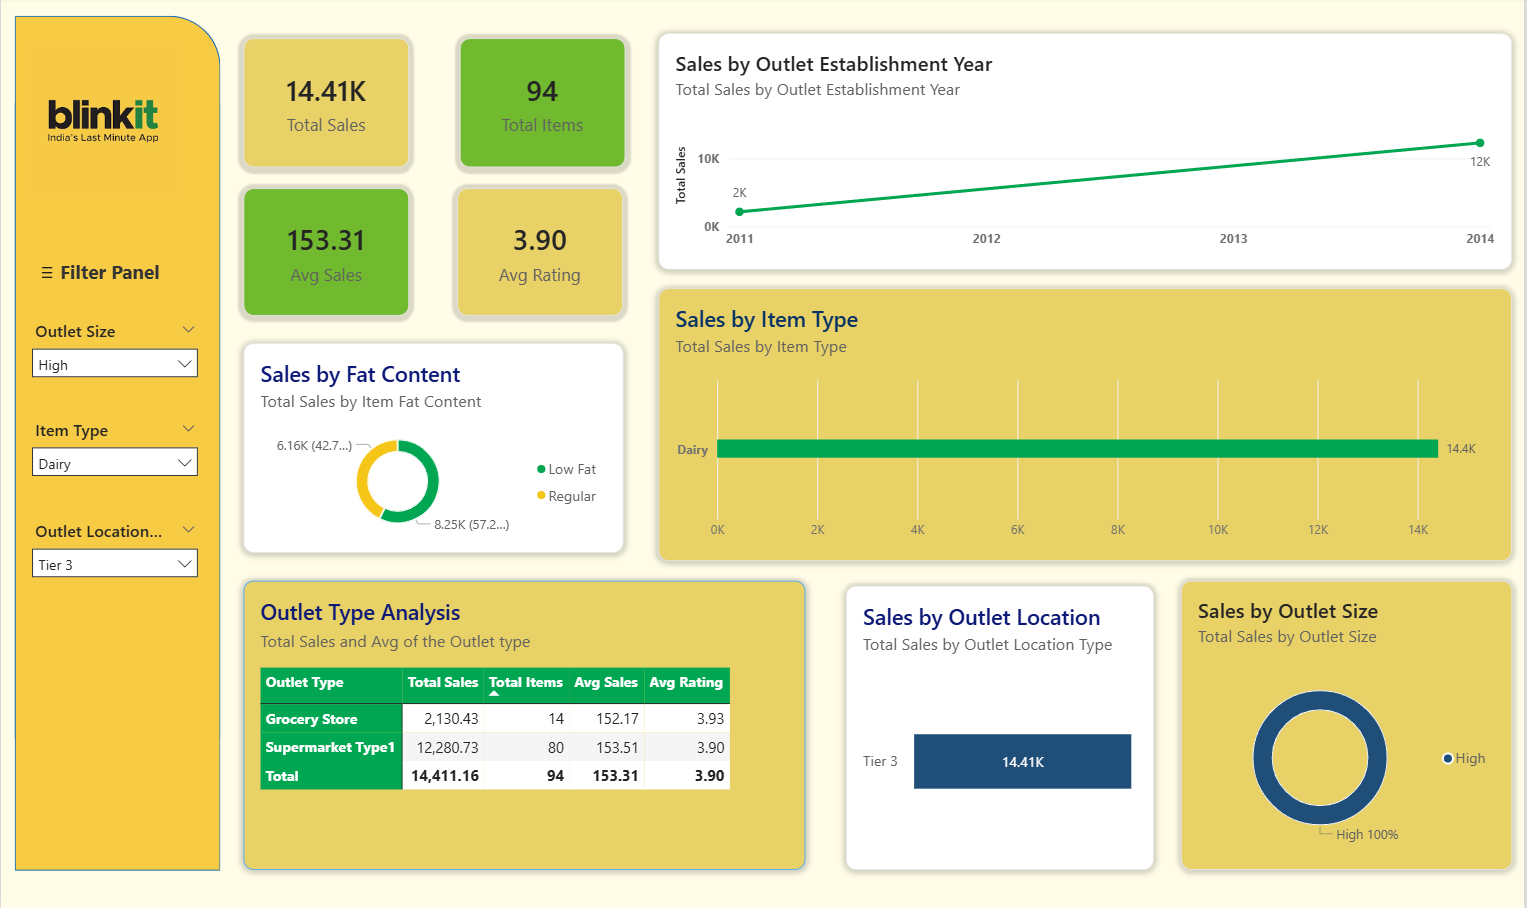

The page's visual inventory and layout, read from the dashboard file:
{"tool":"powerbi","page":{"name":"Page 1","canvas":[1500,900],"ordinal":0},"visuals":[{"type":"card","fields":{"Values":["Key Measures.Total Sales"]},"box":[239,41.2,163.2,126.9],"z":0},{"type":"card","fields":{"Values":["Key Measures.Avg Sales"]},"box":[239,187.9,163.2,125.3],"z":1000},{"type":"card","fields":{"Values":["Key Measures.Avg Rating"]},"box":[450,187.9,163.2,125.3],"z":2000},{"type":"card","fields":{"Values":["Key Measures.Total Items"]},"box":[451.6,41.2,163.2,126.9],"z":3000},{"type":"donutChart","title":" Sales by Fat Content","fields":{"Category":["BlinkIT-Grocery-Data.Item Fat Content"],"Y":["Key Measures.Total Sales"]},"box":[239,341.2,374.2,206],"z":4000},{"type":"clusteredBarChart","title":"Sales by Item Type","fields":{"Category":["BlinkIT-Grocery-Data.Item Type"],"Y":["Key Measures.Total Sales"]},"box":[647.8,286.8,840.7,268.7],"z":5000},{"type":"donutChart","title":"Sales by Outlet Size","fields":{"Category":["BlinkIT-Grocery-Data.Outlet Size"],"Y":["Key Measures.Total Sales"]},"box":[1162.1,575.3,326.4,285.2],"z":6000},{"type":"lineChart","title":"Sales by Outlet Establishment Year","fields":{"Category":["BlinkIT-Grocery-Data.Outlet Establishment Year"],"Y":["Key Measures.Total Sales"]},"box":[647.8,36.3,840.7,232.4],"z":7000},{"type":"pivotTable","title":"Outlet Type Analysis","fields":{"Rows":["BlinkIT-Grocery-Data.Outlet Type"],"Values":["Key Measures.Total Sales","Key Measures.Total Items","Key Measures.Avg Sales","Key Measures.Avg Rating"]},"box":[239,575.3,553.8,285.2],"z":8000},{"type":"funnel","title":" Sales by Outlet Location","fields":{"Category":["BlinkIT-Grocery-Data.Outlet Location Type"],"Y":["Key Measures.Total Sales"]},"box":[832.4,580.2,303.3,280.2],"z":12000},{"type":"shape","box":[13.2,18.1,202.7,842.3],"z":12750},{"type":"slicer","fields":{"Values":["BlinkIT-Grocery-Data.Outlet Location Type"]},"box":[26.4,514.3,173.1,65.9],"z":12812},{"type":"slicer","fields":{"Values":["BlinkIT-Grocery-Data.Outlet Size"]},"box":[26.4,318.1,173.1,64.3],"z":12875},{"type":"slicer","fields":{"Values":["BlinkIT-Grocery-Data.Item Type"]},"box":[26.4,415.4,173.1,67.6],"z":13000},{"type":"textbox","box":[25.9,251.2,160.1,35.7],"z":15500},{"type":"image","box":[25.6,42,148.6,161.9],"z":16501}]}

Visuals, with their boxes in screenshot pixels (x1, y1, x2, y2), scaled from the page's 1500x900 canvas onto the 1527x908 screenshot:
card - Key Measures.Total Sales: [243, 42, 409, 170]
card - Key Measures.Avg Sales: [243, 190, 409, 316]
card - Key Measures.Avg Rating: [458, 190, 624, 316]
card - Key Measures.Total Items: [460, 42, 626, 170]
" Sales by Fat Content" donutChart: [243, 344, 624, 552]
"Sales by Item Type" clusteredBarChart: [659, 289, 1515, 560]
"Sales by Outlet Size" donutChart: [1183, 580, 1515, 868]
"Sales by Outlet Establishment Year" lineChart: [659, 37, 1515, 271]
"Outlet Type Analysis" pivotTable: [243, 580, 807, 868]
" Sales by Outlet Location" funnel: [847, 585, 1156, 868]
shape: [13, 18, 220, 868]
slicer - BlinkIT-Grocery-Data.Outlet Location Type: [27, 519, 203, 585]
slicer - BlinkIT-Grocery-Data.Outlet Size: [27, 321, 203, 386]
slicer - BlinkIT-Grocery-Data.Item Type: [27, 419, 203, 487]
textbox: [26, 253, 189, 289]
image: [26, 42, 177, 206]
